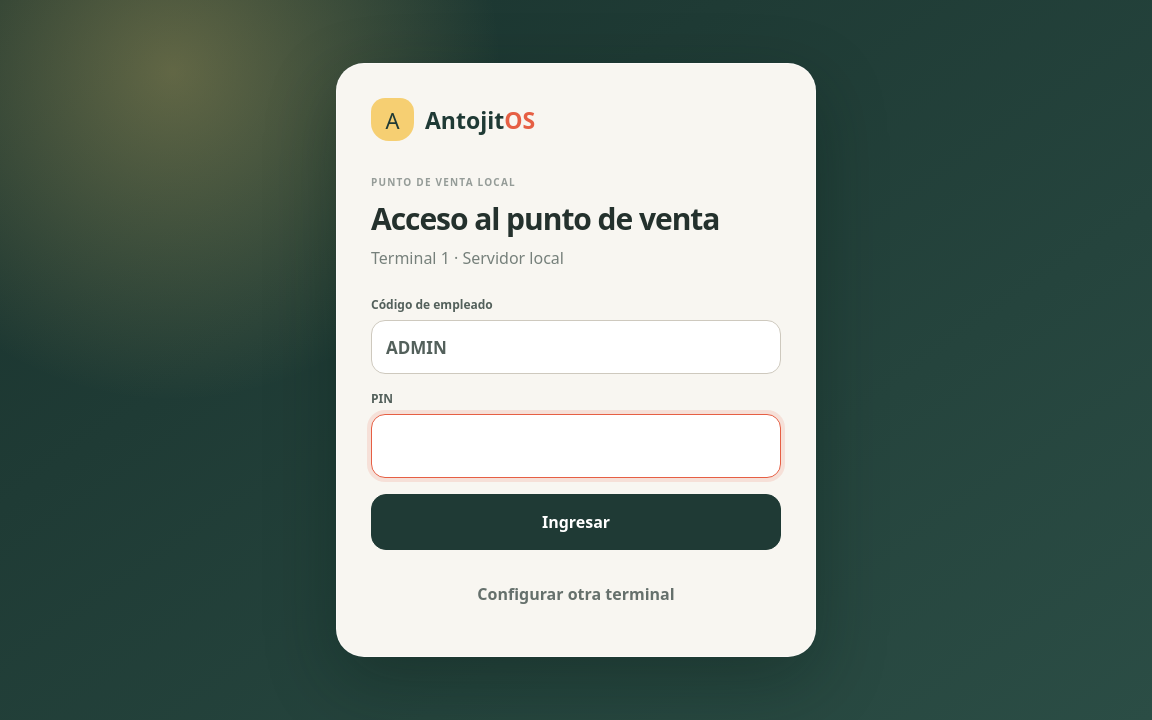
Scenario: POS conectado › inicia sesión y abre una mesa libre con objetivos táctiles
Type "1234" into the password field labelled "PIN" at (576, 446), box 371,414 -> 781,478
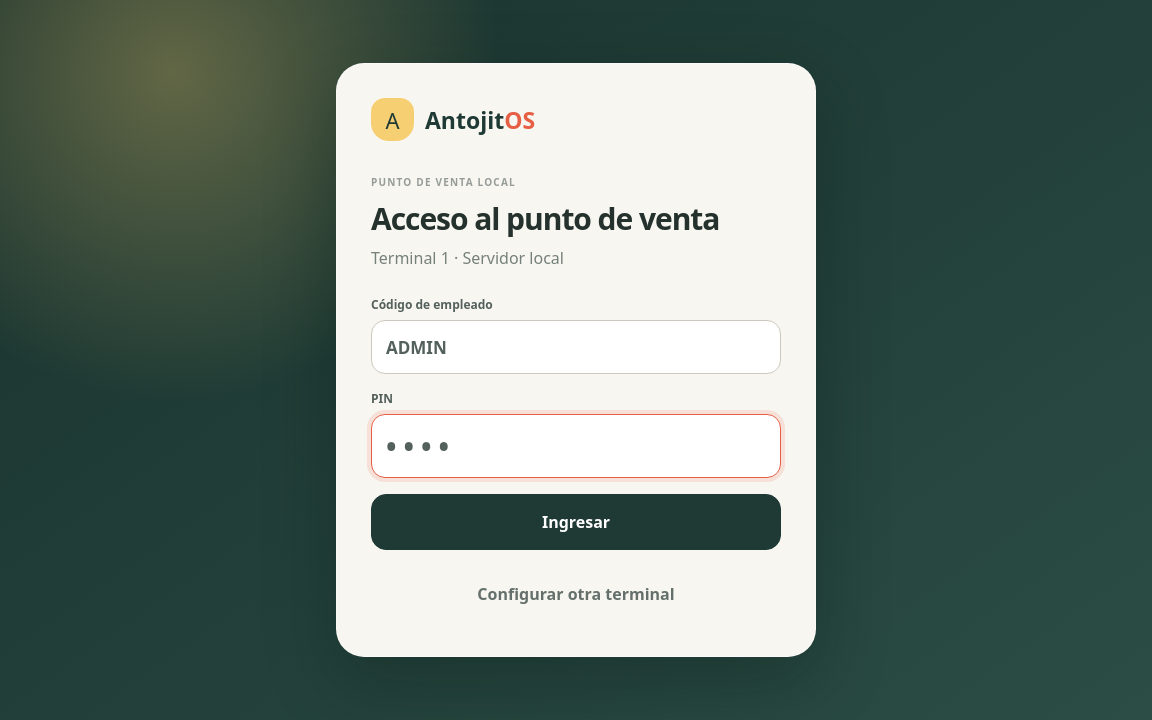
Click the button "Ingresar" at (576, 522), box 371,494 -> 781,550
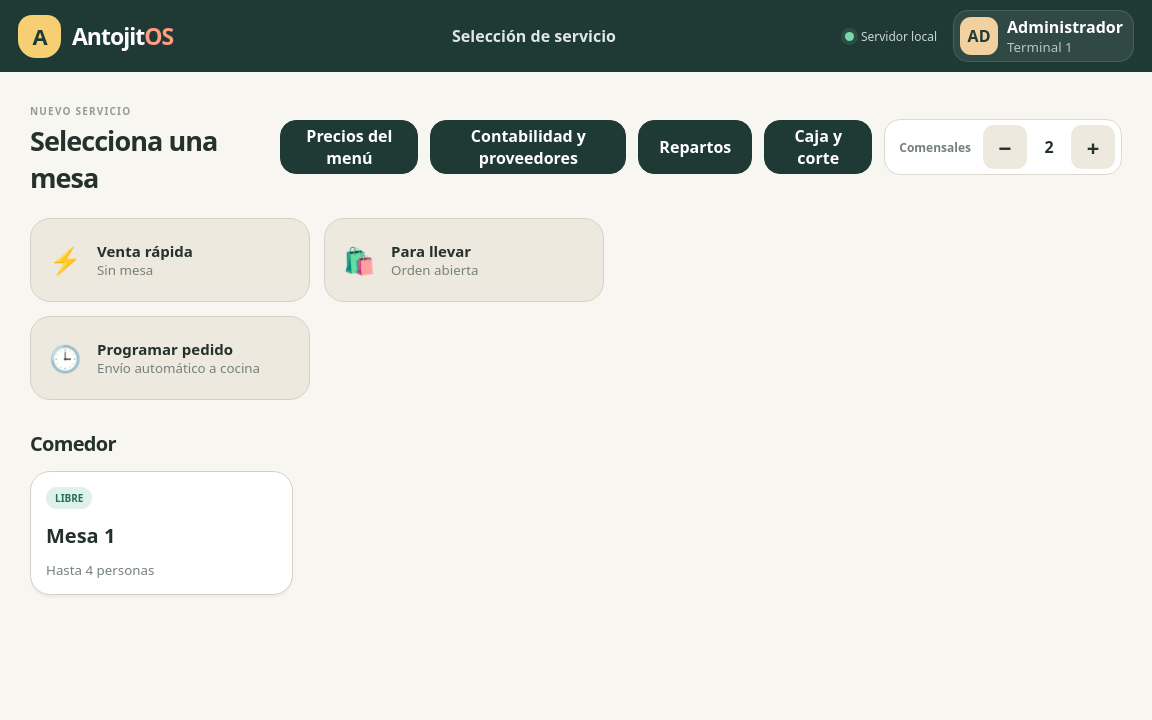
Click the button with aria-label "Mesa 1, libre" at (69, 498), box 30,471 -> 292,595
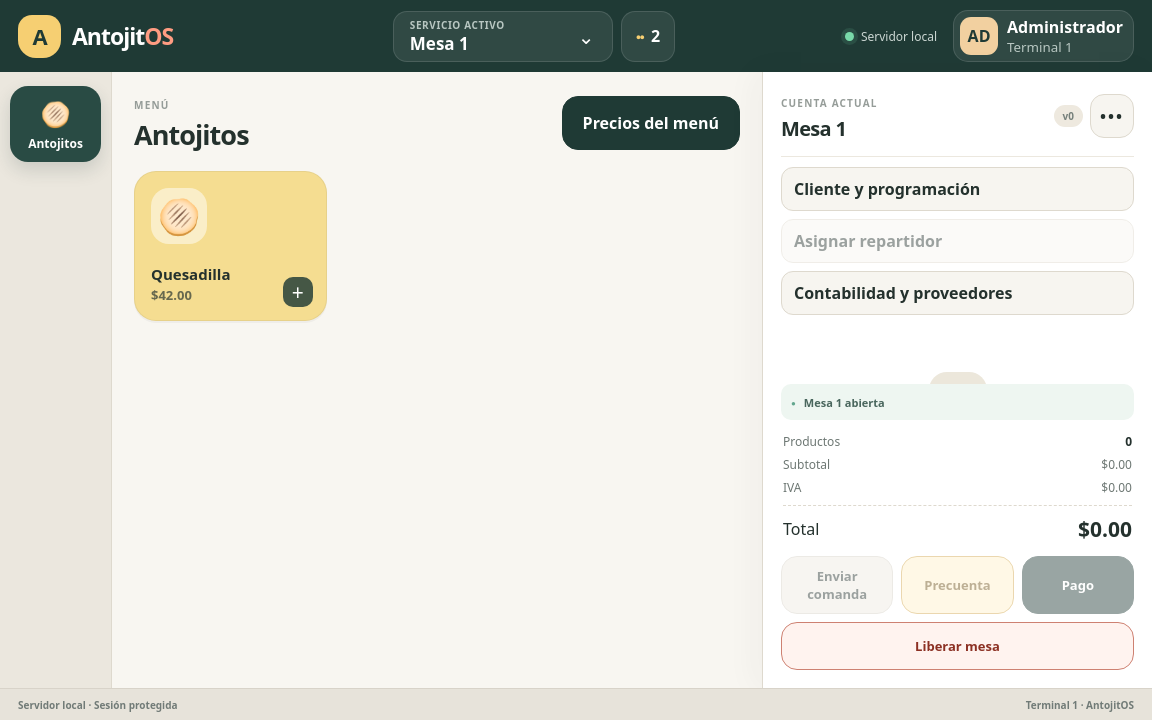
Expected: the button with aria-label "Cambiar mesa" is shown, 393,10 -> 613,62
Expected: the button with aria-label "agregar quesadilla" is shown, 134,171 -> 327,321
